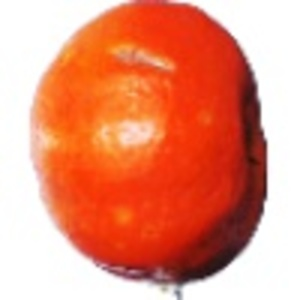tangerina: (29, 1, 269, 300)
